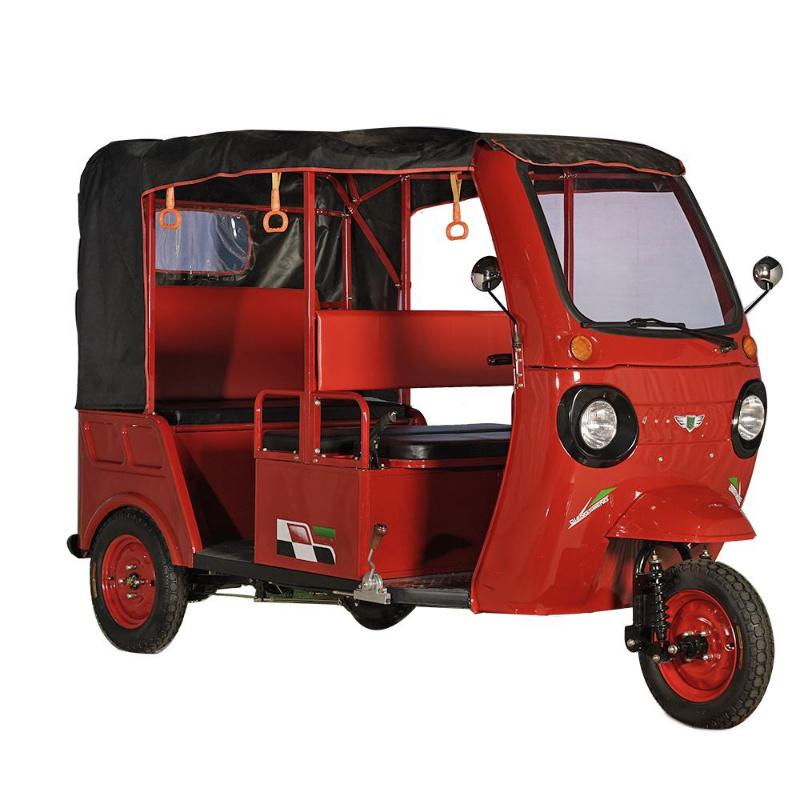threewheel: (66, 126, 782, 730)
